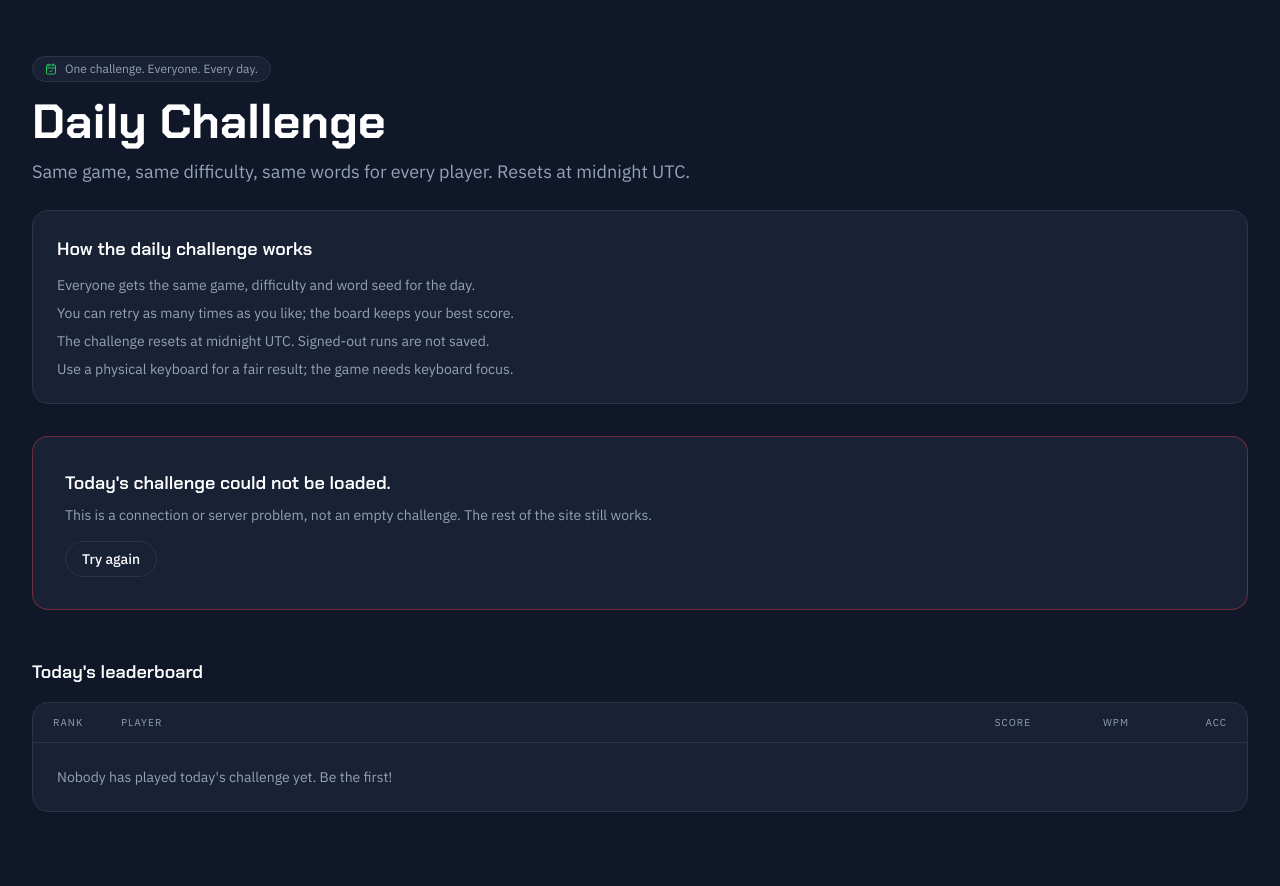
Daily challenge request states › retries the daily request and renders the challenge
Expected: the message with test id "daily-error" is shown, [32,436,1248,610]
Click the button with test id "daily-retry" at (111, 559), box [65,541,157,577]
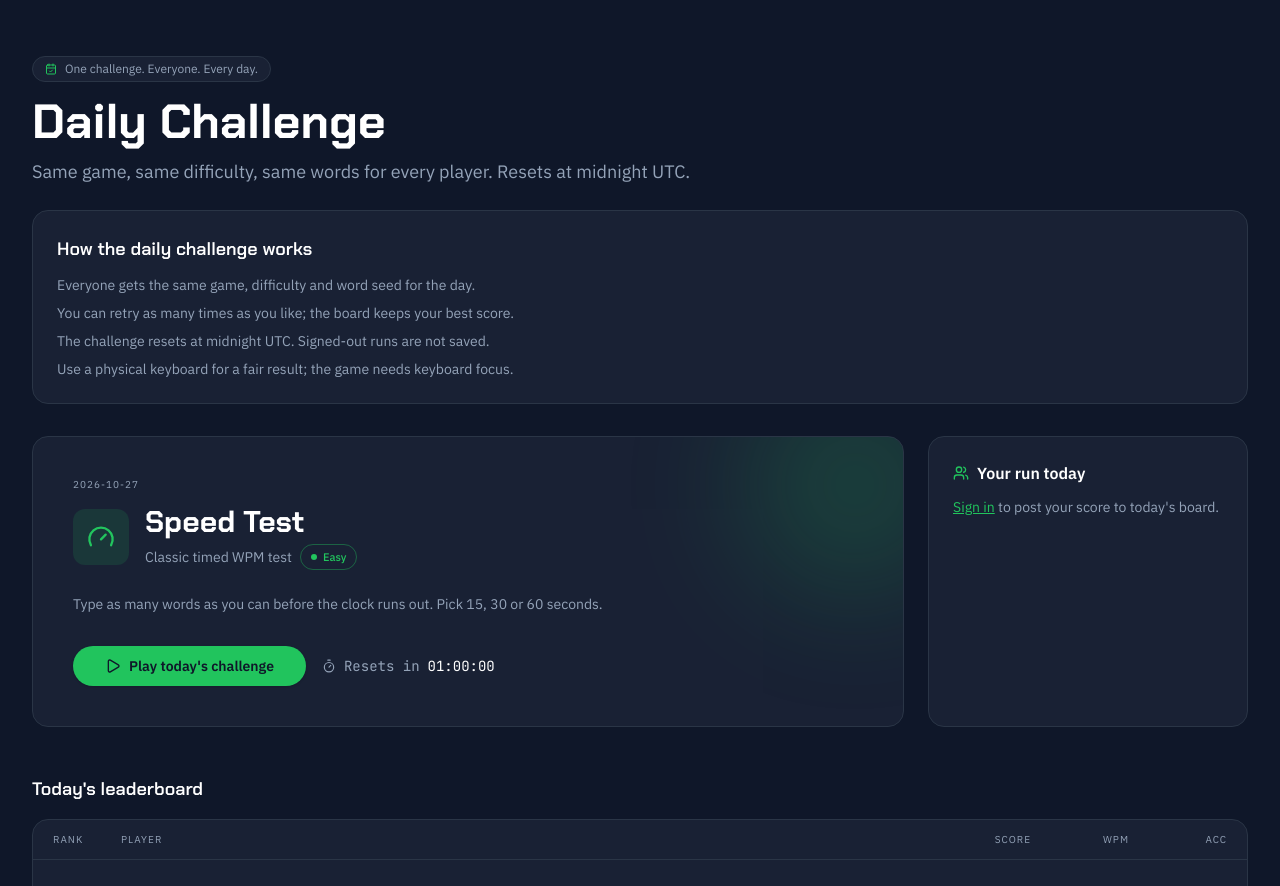
Result: the element with test id "daily-card" is shown at [32,436,904,727]
Result: the heading with test id "daily-game-title" reads "Speed Test" at [145,502,304,541]
